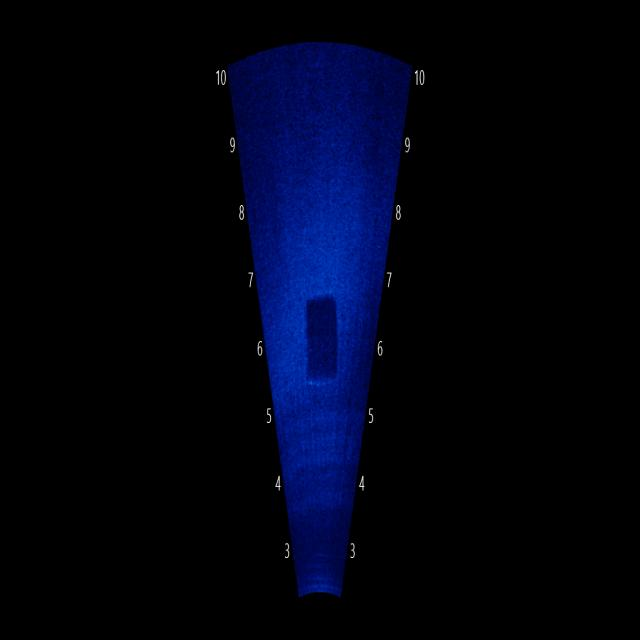square: (282, 240, 356, 410)
